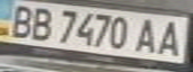0: (109, 13, 133, 51)
4: (75, 10, 96, 47)
7: (51, 7, 78, 45), (90, 11, 112, 48)
A: (154, 17, 187, 57), (133, 16, 163, 55)
B: (3, 2, 39, 39), (24, 4, 57, 42)
